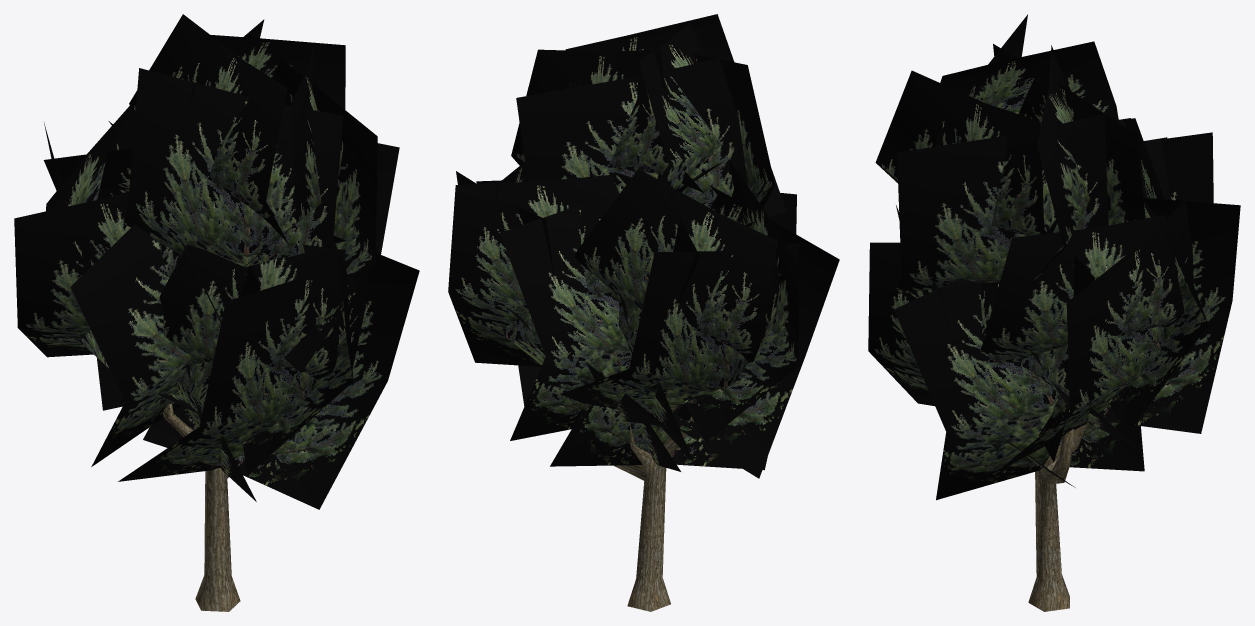
File: Tree_02.dae
3 renders of one model, left to right at view 1: azimuth 30°, elevation 25°; view 2: azimuth 150°, elevation 25°; view 3: azimuth 270°, elevation 25°, orthographic. The views are drawn at different scales.
Visible parts, largest first — view 1: Tree_02; view 2: Tree_02; view 3: Tree_02.
Part boxes in pixels (x1,y1,x2,y2): Tree_02: [14, 14, 419, 611]; Tree_02: [448, 14, 839, 611]; Tree_02: [868, 14, 1240, 611].
Bounding box in the file's own units: 4.83 × 4.37 × 7.2.
Materials: 2 (2 with a texture image).
